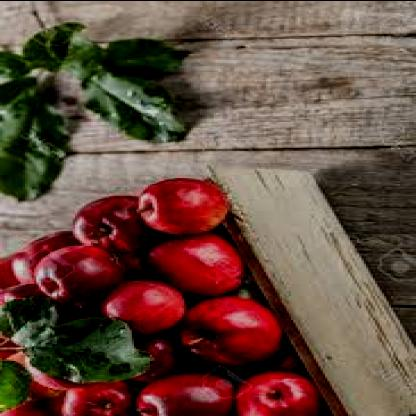apple: (141, 172, 227, 236), (184, 301, 268, 359), (156, 236, 236, 294), (38, 248, 118, 303), (104, 274, 184, 327), (68, 198, 148, 251), (138, 374, 225, 416), (236, 372, 316, 416), (59, 378, 127, 414)
